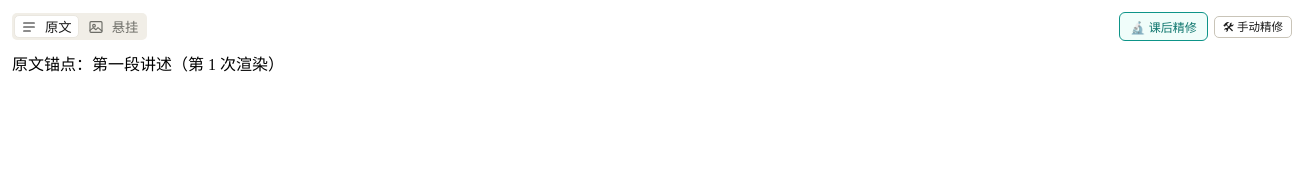
Test: SessionViewHost · T10 判据（H1–H6 + 默认视图重锚） › H3 `Suspense` 边界在位：`load` 永不 resolve ⇒ 渲染 `ShellFallback`
What coordinates should you click on to do the following:
click the button "悬挂"
I would click on:
 (113, 26)
Its box is [81,15,145,38].
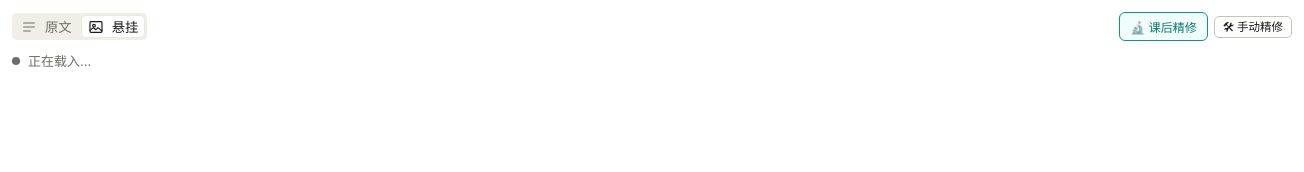
Expected: the message "正在载入…" is shown, [12,51,91,71]
